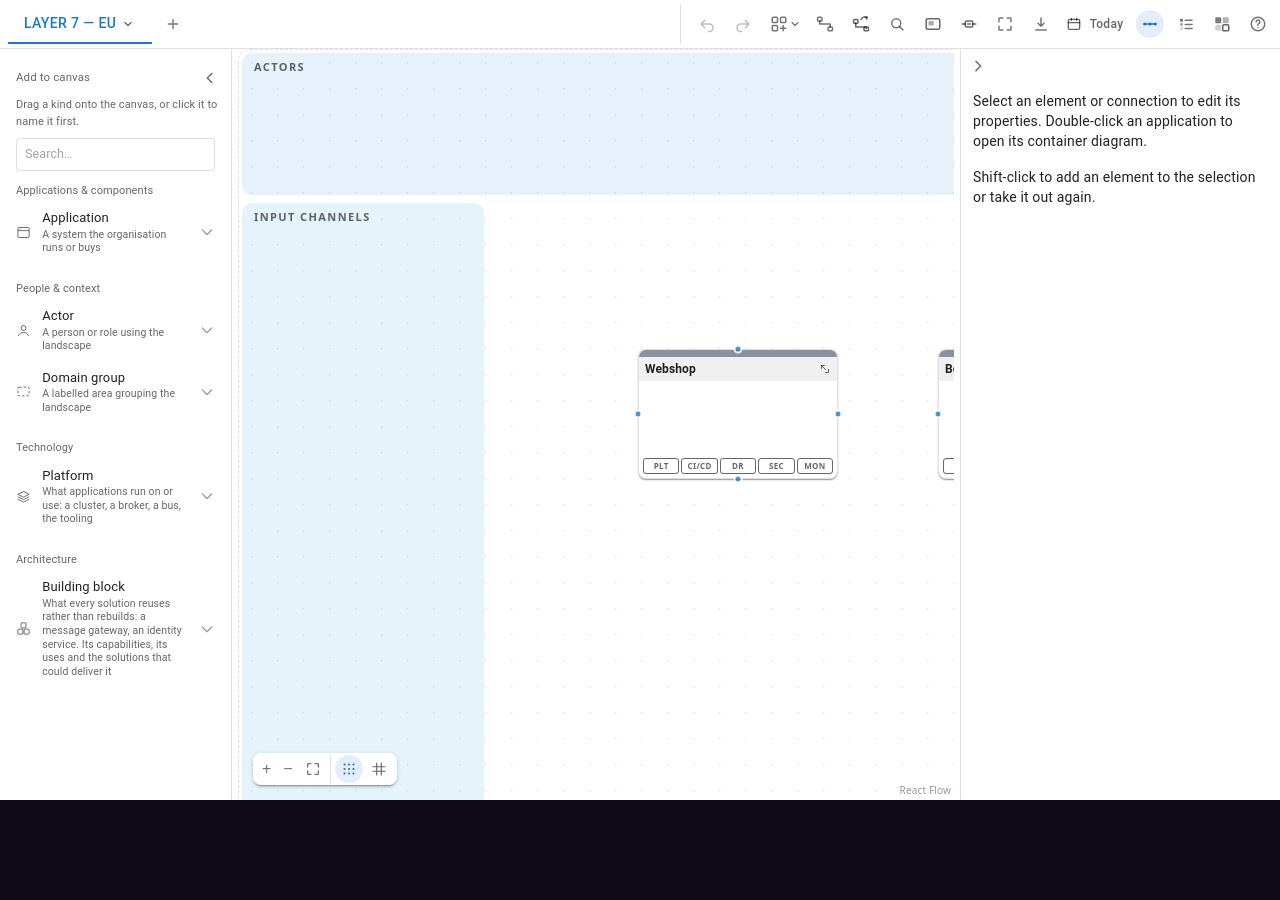
Test: SolutionDesignEditor — element search › Enter focuses the first match and closes the dialog
Click the button named "Find element" at [897, 24], box top-left (883, 10), bottom-right (911, 38)
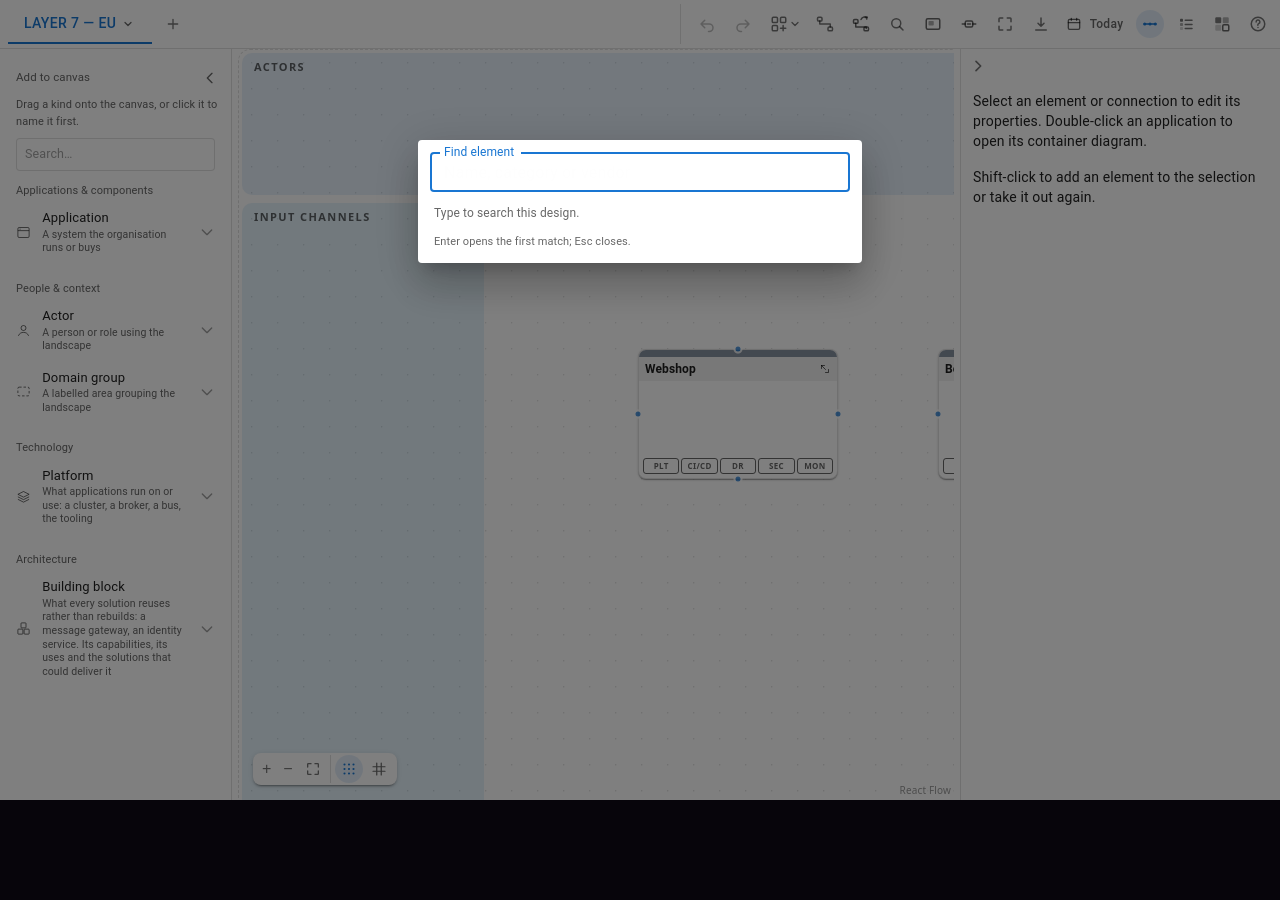
Type "webshop" into the dropdown named "Search elements" at [640, 172], box top-left (430, 152), bottom-right (850, 192)
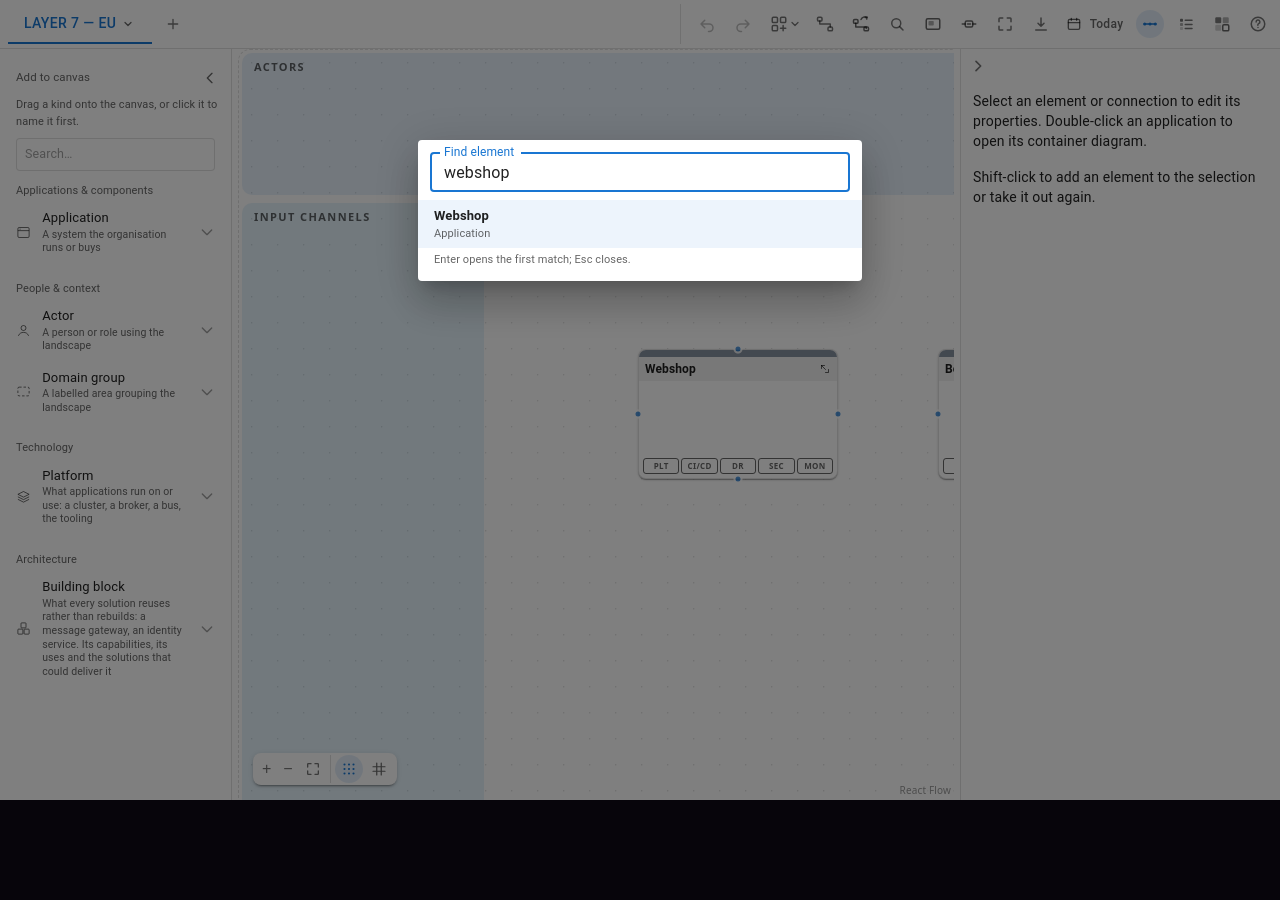
Press Enter in the dropdown named "Search elements", box top-left (430, 152), bottom-right (850, 192)
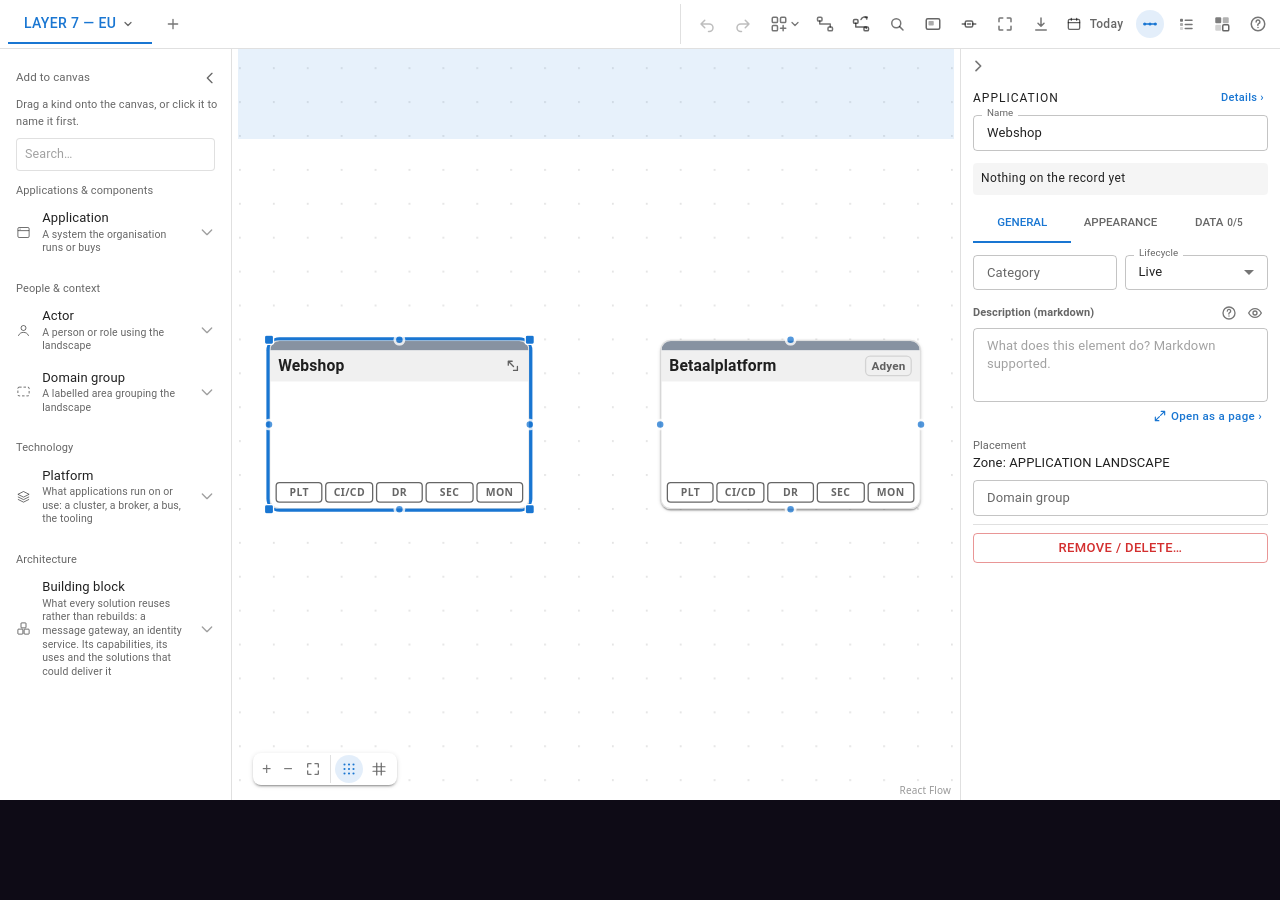
expect the field labelled "Name" is shown: met, box top-left (973, 115), bottom-right (1268, 151)
